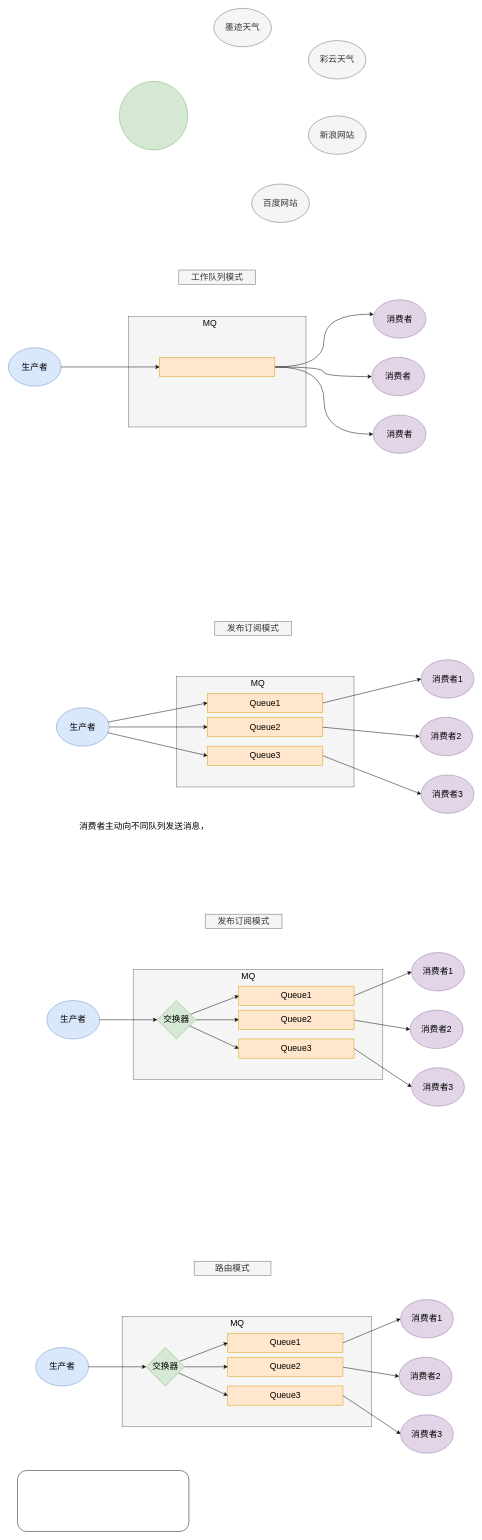
This 482x1540 diagram has some shape labels left out. The centre of each missing label's shape, as x and y in pixels:
气象中心: point (153, 115)
路由key: point (103, 1500)
队列: point (217, 367)
